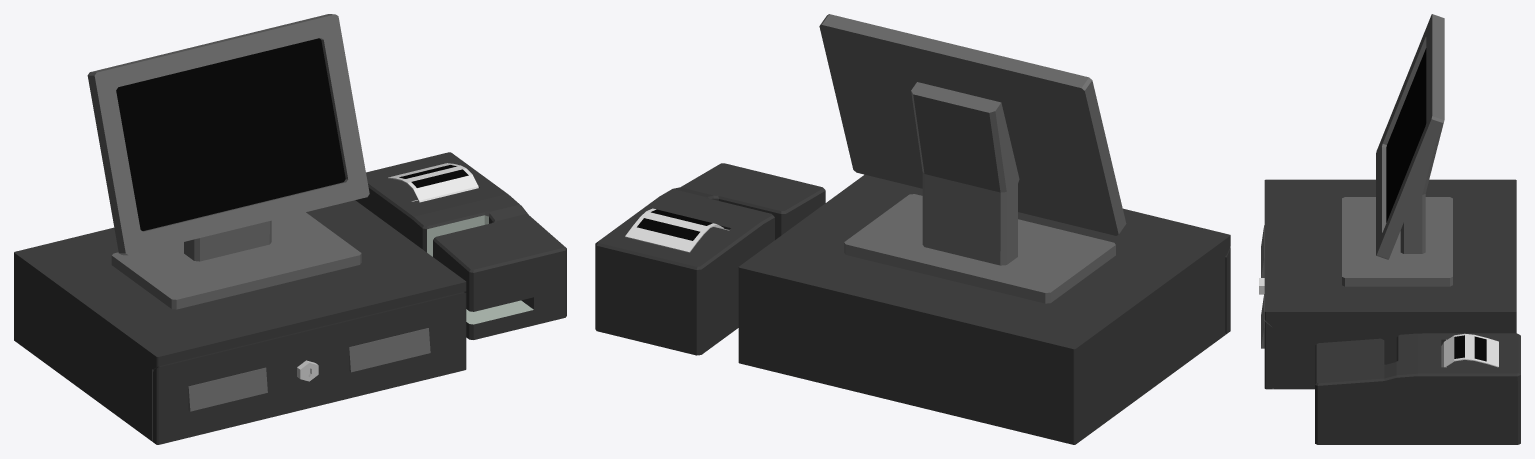
The model's file is C_Cash_Register.fbx.
3 views of the same model, side by side, from view 1: azimuth 30°, elevation 25°; view 2: azimuth 150°, elevation 25°; view 3: azimuth 270°, elevation 25° (orthographic). The views are drawn at different scales.
Parts seen in each view (by area): view 1: C_Cash_Register; view 2: C_Cash_Register; view 3: C_Cash_Register.
Part boxes in pixels (bbox=[...]): C_Cash_Register: bbox=[14, 14, 566, 444]; C_Cash_Register: bbox=[595, 14, 1230, 444]; C_Cash_Register: bbox=[1259, 14, 1520, 444].
Size of the model in its own units: 479 by 282 by 306.
